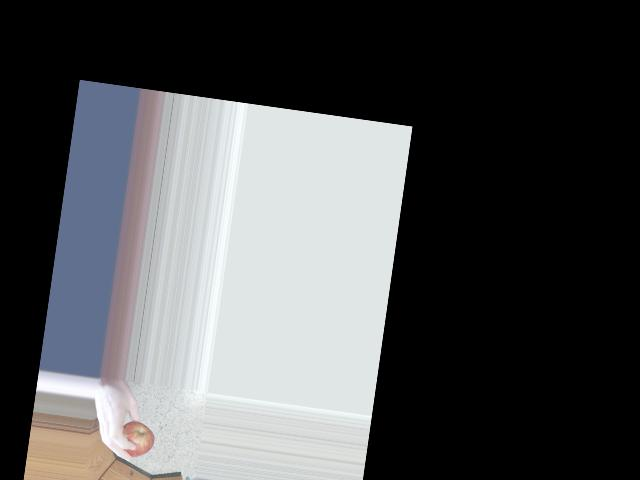apple: (112, 416, 157, 464)
